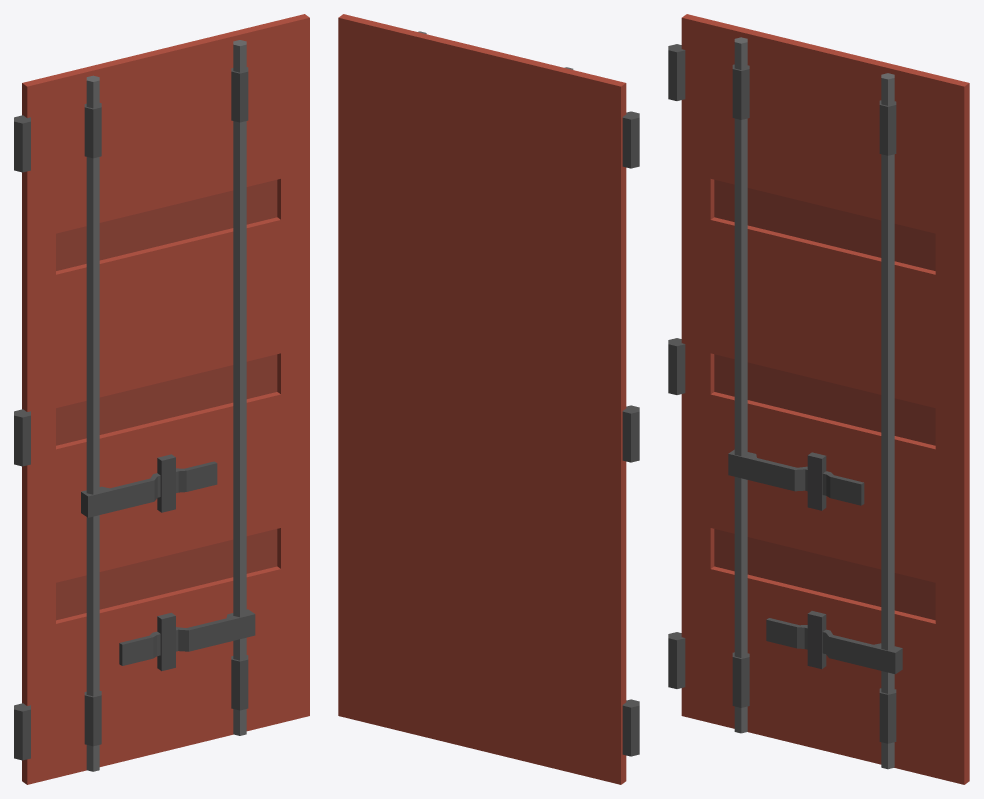
Rendered from SM_Props_ShippingContainer_Door1_L.glb.
3 renders of one model, left to right at view 1: azimuth 30°, elevation 25°; view 2: azimuth 150°, elevation 25°; view 3: azimuth 330°, elevation 25°, orthographic.
Visible parts, largest first — view 1: SM_Props_ShippingContainer_Door1_L; view 2: SM_Props_ShippingContainer_Door1_L; view 3: SM_Props_ShippingContainer_Door1_L.
Boxes of the visible parts, bbox=[...] form: SM_Props_ShippingContainer_Door1_L: bbox=[14, 14, 309, 784]; SM_Props_ShippingContainer_Door1_L: bbox=[338, 14, 639, 784]; SM_Props_ShippingContainer_Door1_L: bbox=[668, 14, 969, 784].
Bounding box in the file's own units: 1.17 × 2.63 × 0.0859.
1 material, 1 textured.
